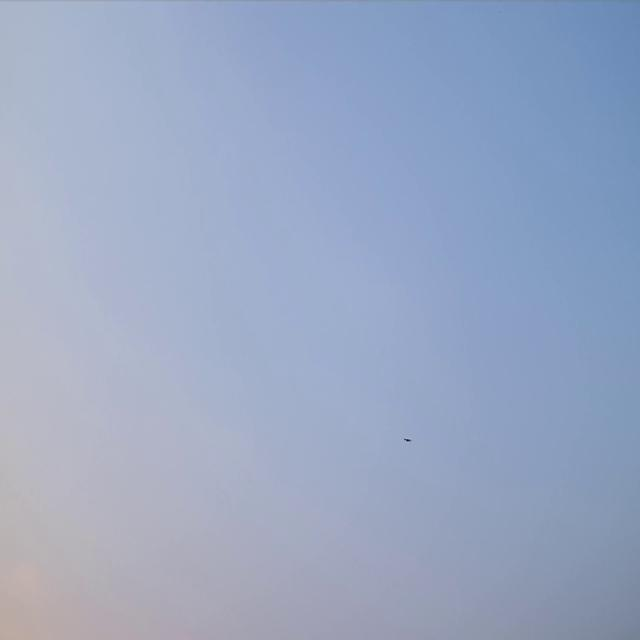UAV: (402, 435, 413, 444)
